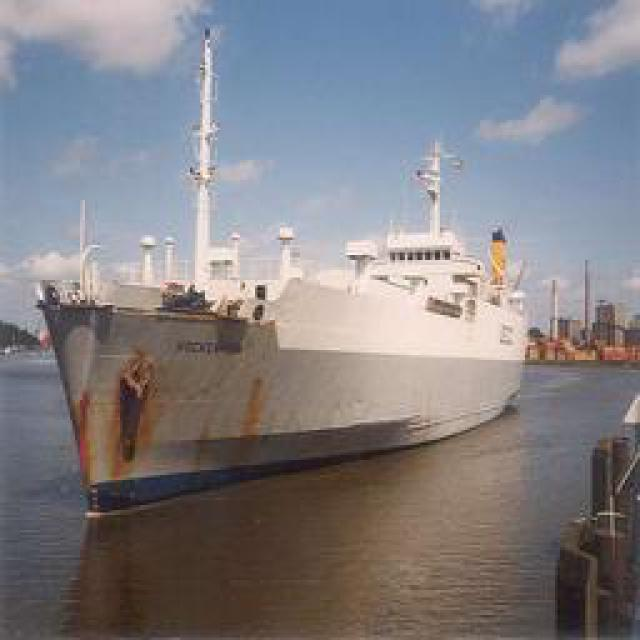Ship: (31, 97, 534, 520)
